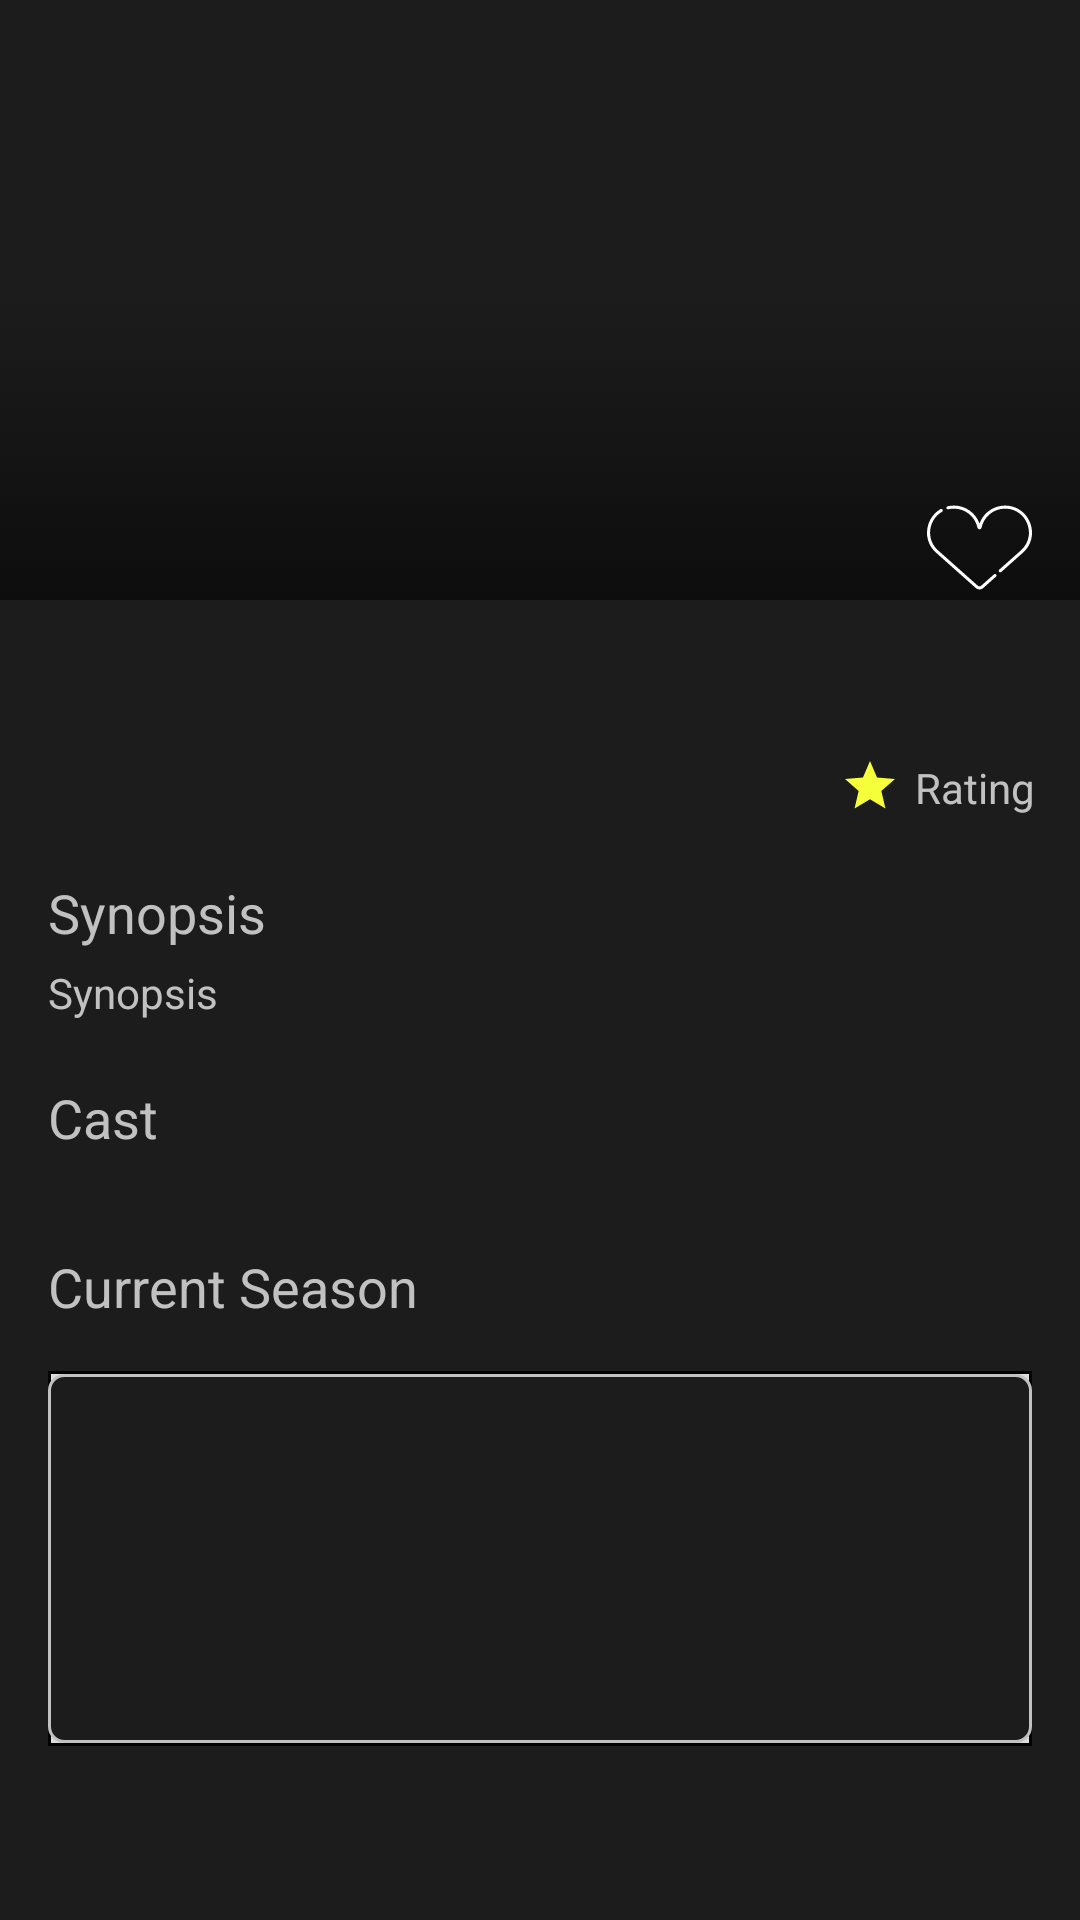

Named icons in this screenshot (1080w x 1920h) and their centers, [x,y]:
heart: [979,547]
to display star: [870,785]
